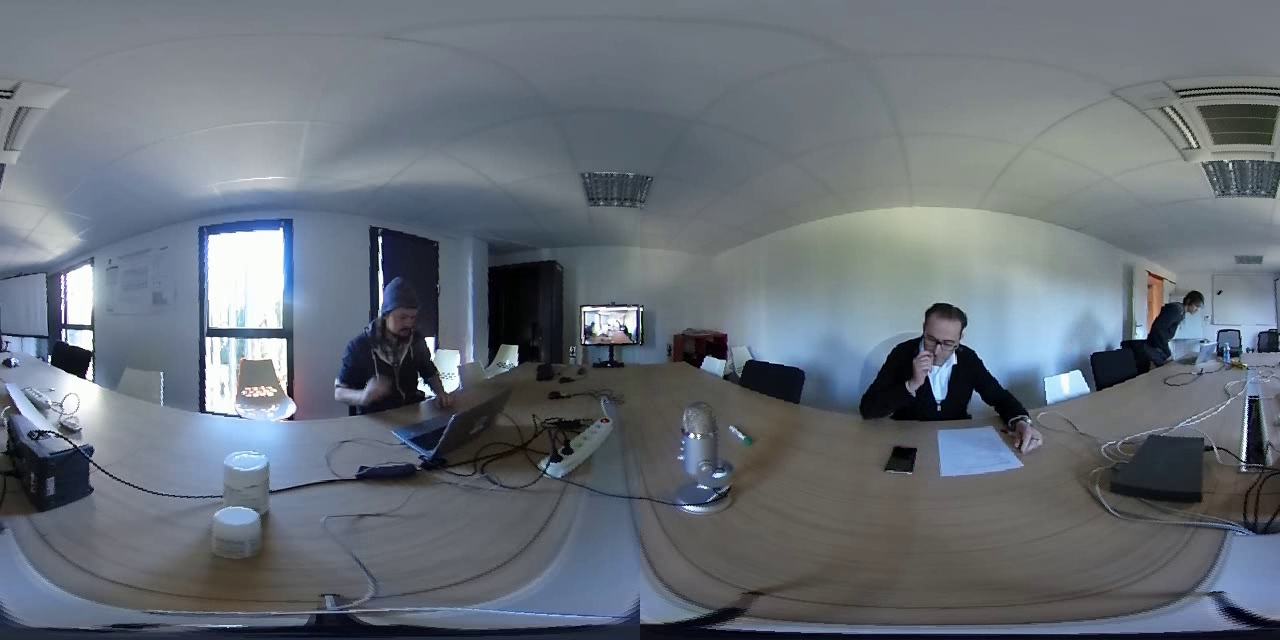person: (876, 298, 1017, 435), (349, 270, 447, 413), (1147, 282, 1204, 371)
